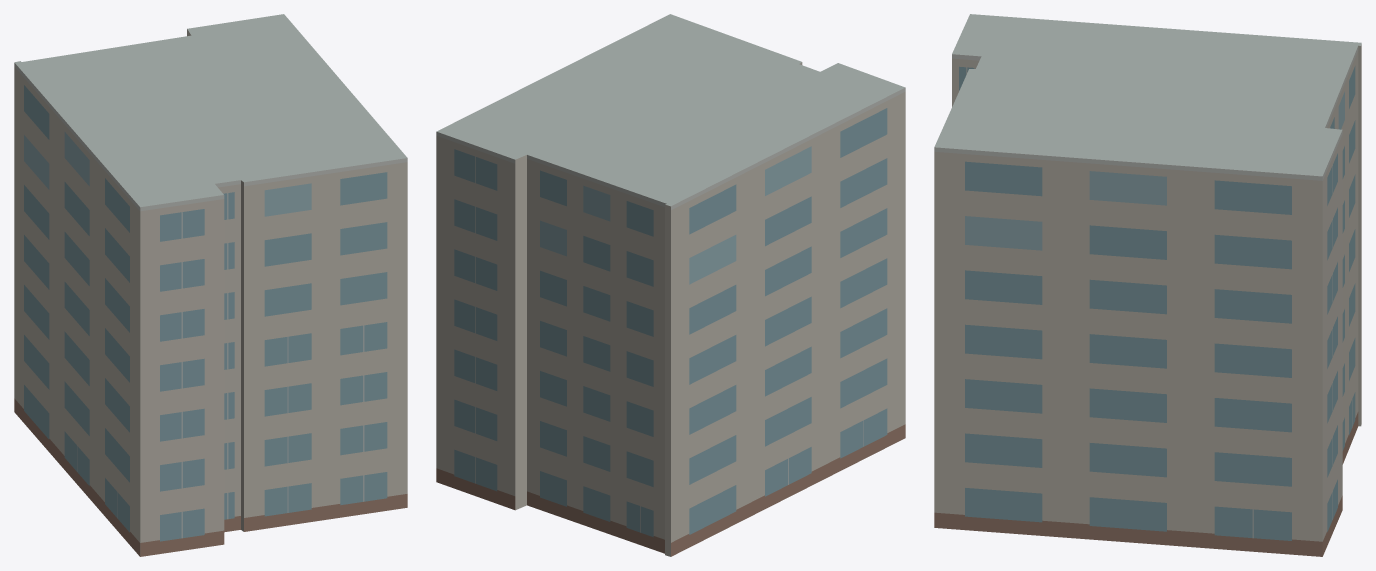
Rendered from survey-upis-32839030.glb.
3 renders of one model, left to right at view 1: azimuth 30°, elevation 25°; view 2: azimuth 150°, elevation 25°; view 3: azimuth 270°, elevation 25°, orthographic. The views are drawn at different scales.
Visible parts, largest first — view 1: survey-upis-32839030.tmp; view 2: survey-upis-32839030.tmp; view 3: survey-upis-32839030.tmp.
Boxes of the visible parts, <box> form: survey-upis-32839030.tmp: <box>14,14,407,556</box>; survey-upis-32839030.tmp: <box>436,14,905,556</box>; survey-upis-32839030.tmp: <box>934,14,1361,556</box>.
Size of the model in its own units: 19.23 by 20.99 by 21.38.
